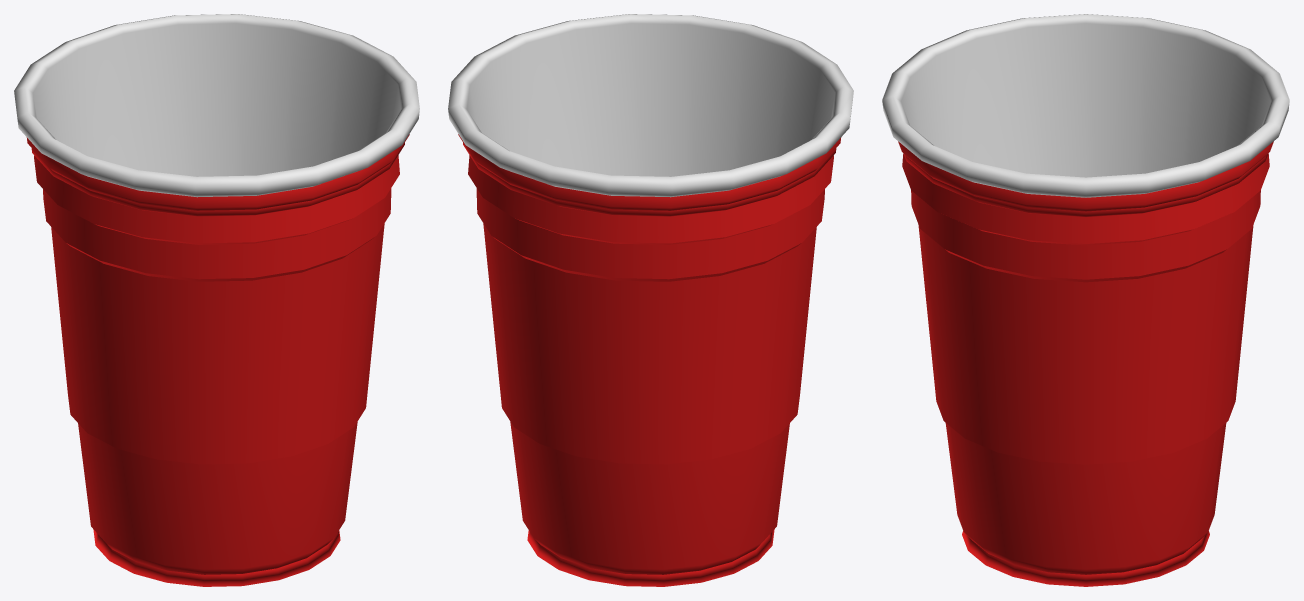
Rendered from red cup1.fbx.
3 renders of one model, left to right at view 1: azimuth 30°, elevation 25°; view 2: azimuth 150°, elevation 25°; view 3: azimuth 270°, elevation 25°, orthographic.
Parts seen in each view (by area): view 1: revolvedSurface1; view 2: revolvedSurface1; view 3: revolvedSurface1.
Part boxes in pixels (x1,y1,x2,y2): revolvedSurface1: (14,14,419,586); revolvedSurface1: (448,14,853,586); revolvedSurface1: (882,14,1289,586).
Size of the model in its own units: 4.1 by 4.88 by 4.1.
